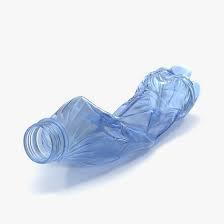Plastic: (20, 60, 203, 169)
